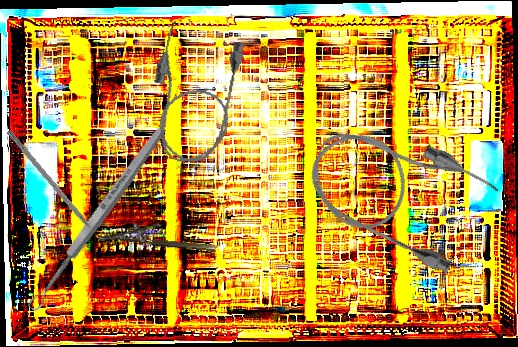Cannula: (294, 103, 504, 280), (141, 19, 247, 170)
Hook Surgical: (5, 129, 104, 246)
Needle Holder: (98, 217, 219, 253)
Surgical Spoon: (25, 124, 168, 314)
